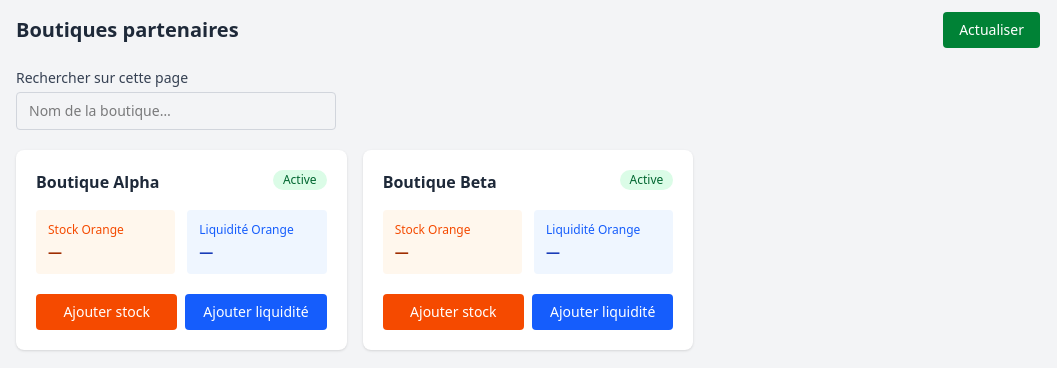
Test: TC-031-STORES — DealerStores › [STORES-05] recherche filtre les boutiques par nom (label "Rechercher sur cette page")
This screenshot has width=1057, height=368.
Expected: the element with test id "store-card-store-a" is shown, [16,150,347,350]
In the search field with placeholder "Nom de la boutique…": (176, 111) [16,92,336,130], type "Alpha"
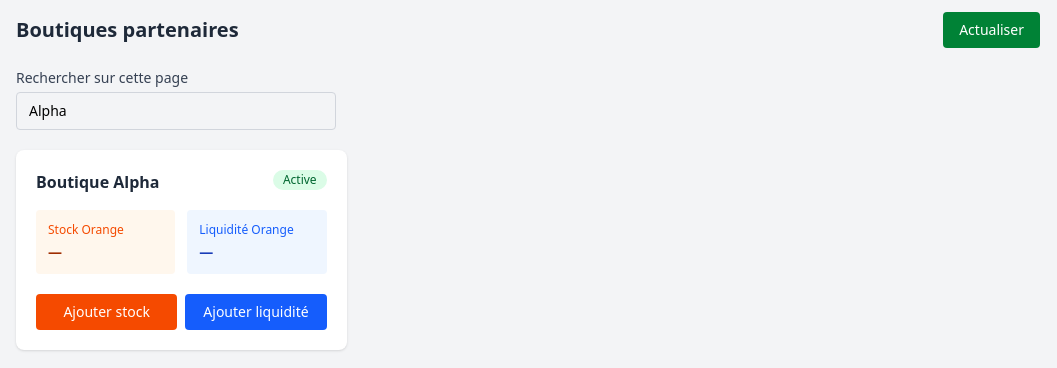
Expected: the element with test id "store-card-store-a" is shown, [16,150,347,350]
Now the element with test id "store-card-store-b" is gone
